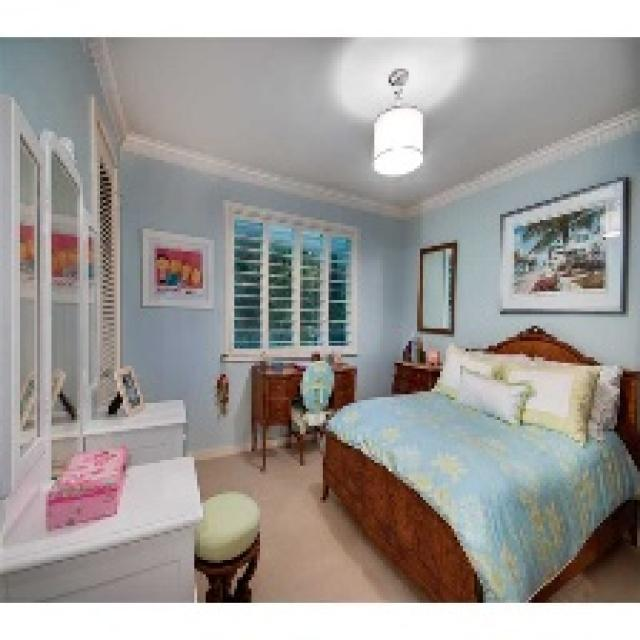Bed: (320, 323, 637, 600)
